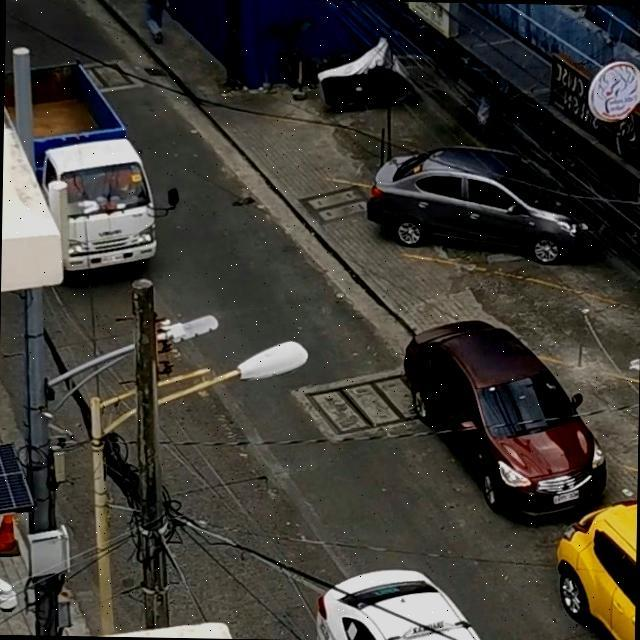Truck: (1, 49, 206, 288)
